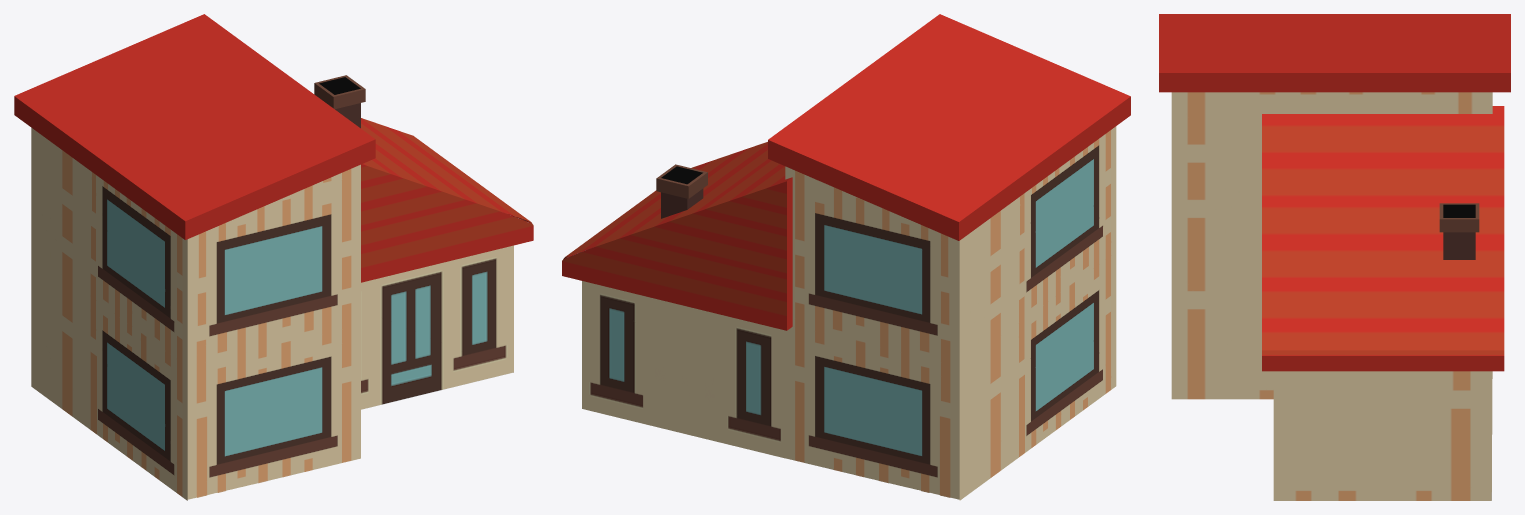
The model's file is Building #19.fbx.
The picture shows the model from 3 angles, left to right: view 1: azimuth 30°, elevation 25°; view 2: azimuth 150°, elevation 25°; view 3: azimuth 270°, elevation 25°; orthographic projection. The views are drawn at different scales.
Parts seen in each view (by area): view 1: House 2; view 2: House 2; view 3: House 2.
Boxes of the visible parts, x1,y1,x2,y2 form: House 2: [14, 14, 533, 500]; House 2: [562, 14, 1130, 500]; House 2: [1159, 14, 1510, 500].
Size of the model in its own units: 3246 by 2505 by 2415.
Materials: 1 (1 with a texture image).
